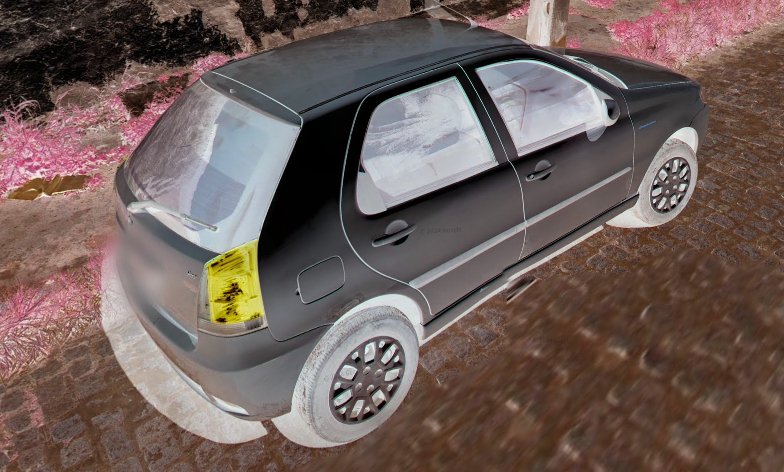car: (115, 14, 709, 445)
